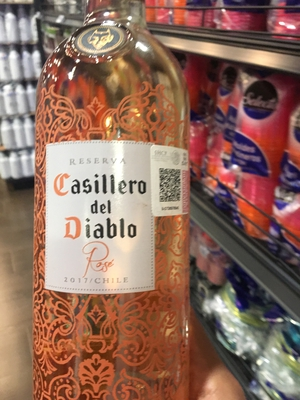casillero del diablo rose: (21, 23, 201, 400)
